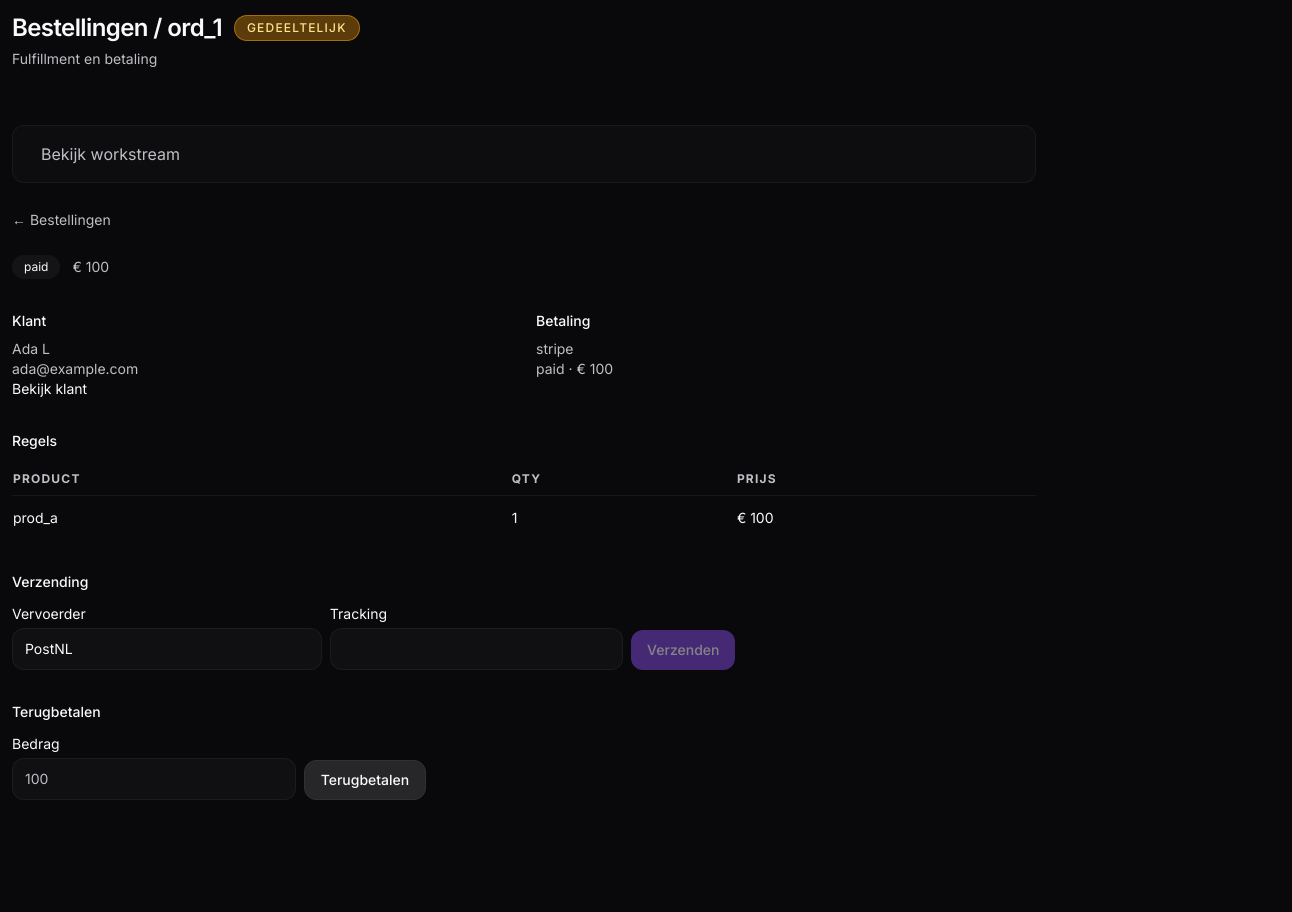
Test: OrderDetailPage › renders order detail and creates refund approval
Expected: the message with test id "order-status-chip" reads "paid", [24,259,48,274]
What coordinates should you click on to do the following:
click the button with test id "order-refund-submit"
I would click on:
 (365, 780)
Its box is [304,760,426,800].
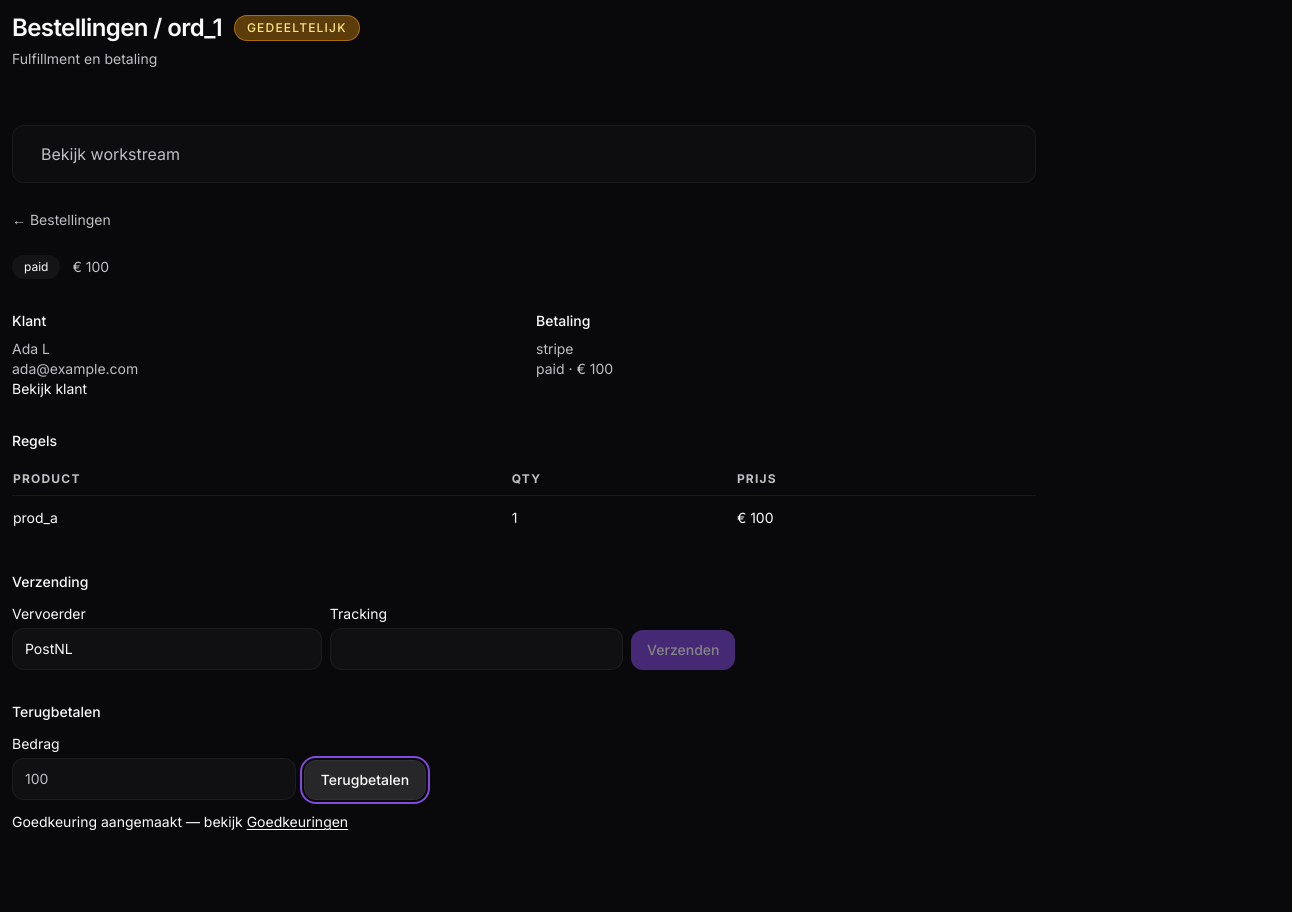
Now the element with test id "order-refund-approval" is shown, box [12,813,348,830]
